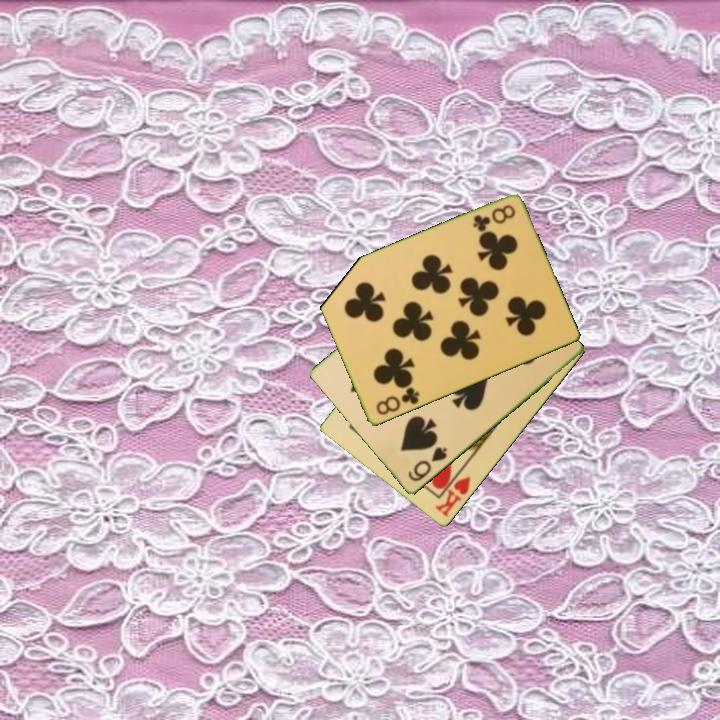6s: (404, 444, 450, 485)
8c: (372, 384, 422, 419), (469, 201, 518, 235)
Kh: (432, 465, 474, 520)
